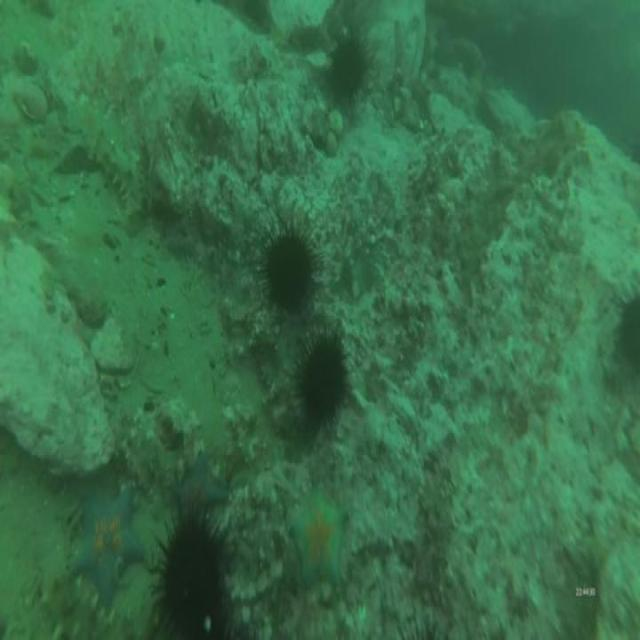echinus: (144, 502, 243, 640), (295, 319, 351, 435), (261, 220, 321, 320), (325, 28, 371, 112), (613, 276, 640, 391)
holothurian: (78, 112, 150, 226)
starfish: (68, 485, 146, 612), (286, 482, 350, 602), (163, 454, 231, 526)
